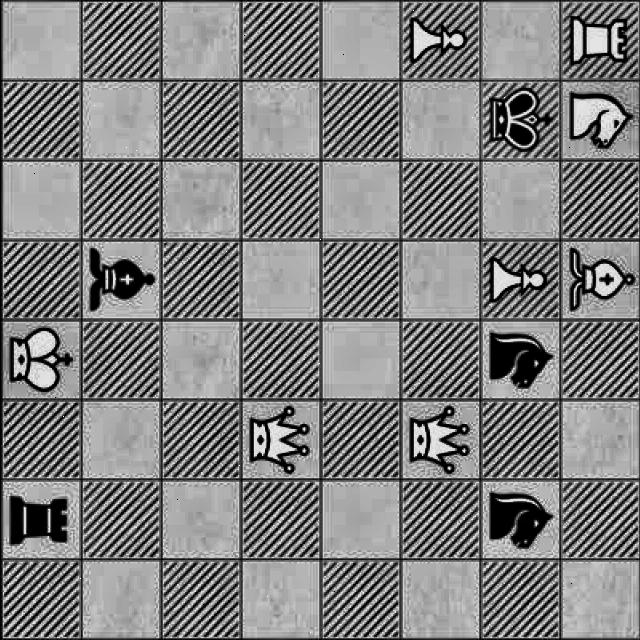Black Knight: (482, 479, 560, 560), (482, 328, 558, 397)
black bishop: (82, 242, 164, 316)
black king: (483, 84, 560, 158)
black rook: (10, 483, 76, 552)
white bishop: (561, 245, 639, 312)
white king: (0, 323, 78, 393)
white pawn: (480, 246, 550, 312), (406, 6, 472, 70)
white queen: (238, 402, 321, 474), (406, 404, 478, 475)
white rook: (564, 4, 637, 72)
whiteknight: (564, 86, 638, 156)
